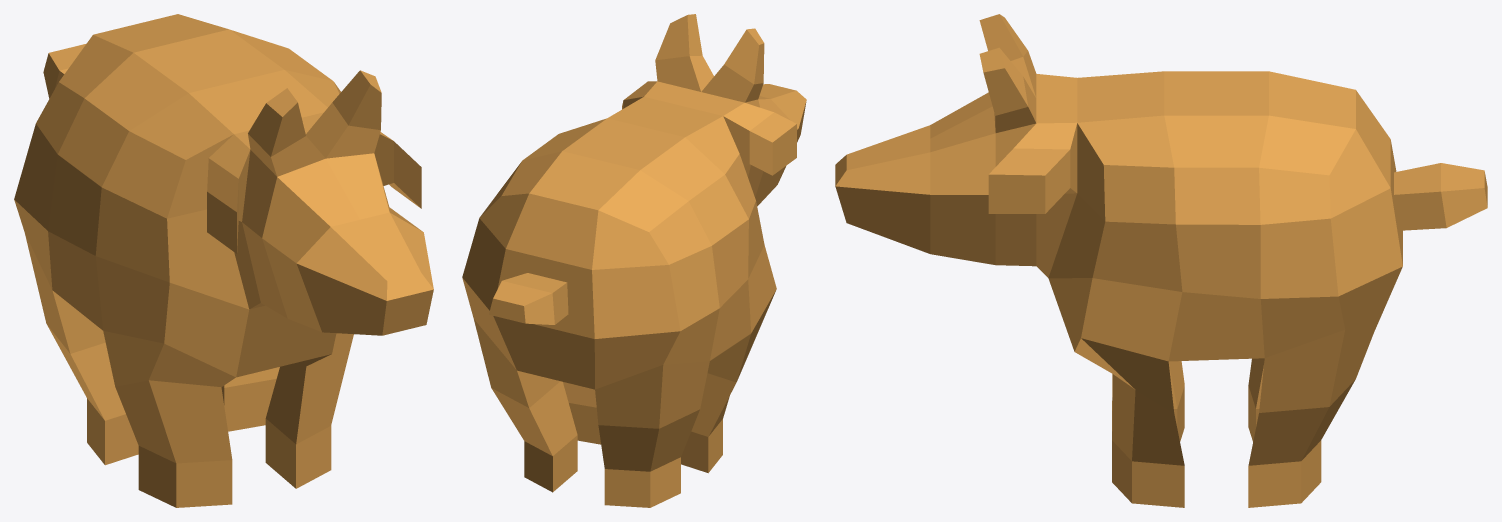
Rendered from goat.obj.
The picture shows the model from 3 angles, left to right: view 1: azimuth 30°, elevation 25°; view 2: azimuth 150°, elevation 25°; view 3: azimuth 270°, elevation 25°; orthographic projection. The views are drawn at different scales.
Parts seen in each view (by area): view 1: Cube; view 2: Cube; view 3: Cube.
Boxes of the visible parts, x1,y1,x2,y2 form: Cube: (14,14,433,507); Cube: (462,14,806,507); Cube: (835,14,1487,507).
Bounding box in the file's own units: 1.51 × 2.38 × 3.23.
